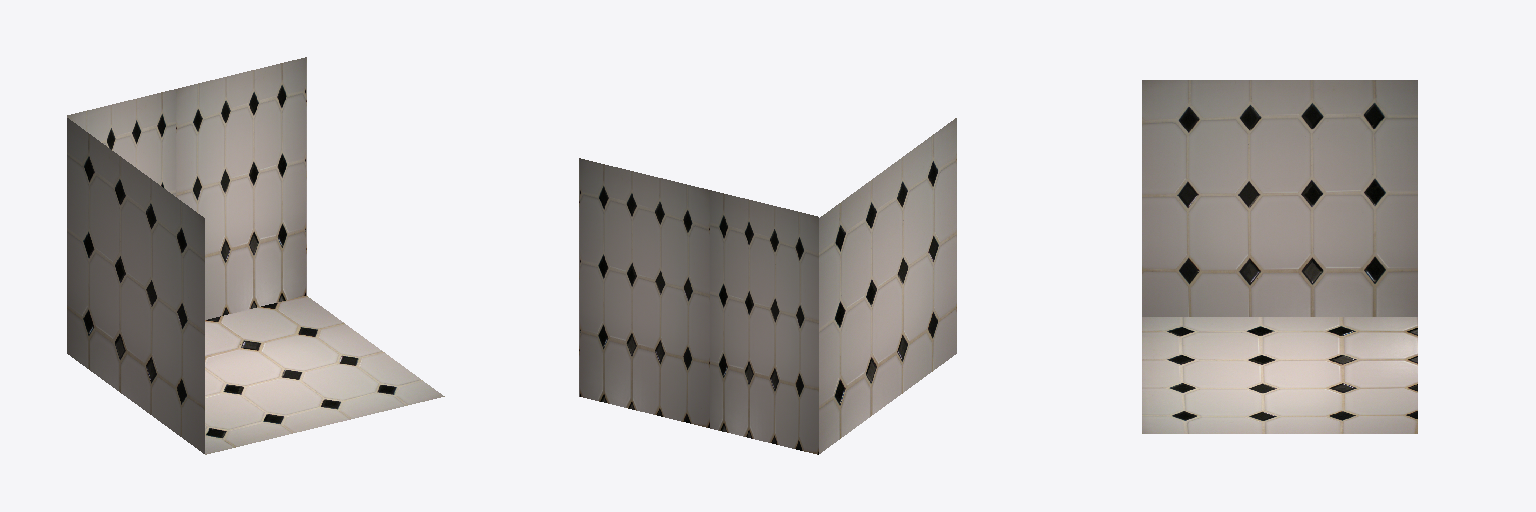
The picture shows the model from 3 angles: view 1: azimuth 30°, elevation 25°; view 2: azimuth 150°, elevation 25°; view 3: azimuth 270°, elevation 25°; orthographic projection.
Parts seen in each view (by area): view 1: Plane.001_Plane; view 2: Plane.001_Plane; view 3: Plane.001_Plane.
Part boxes in pixels (left/top/right/bottom): Plane.001_Plane: left=67, top=57, right=444, bottom=454; Plane.001_Plane: left=579, top=118, right=956, bottom=454; Plane.001_Plane: left=1142, top=80, right=1417, bottom=433.
Bounding box in the file's own units: 29.17 × 27.77 × 29.17.
1 materials, 1 textured.